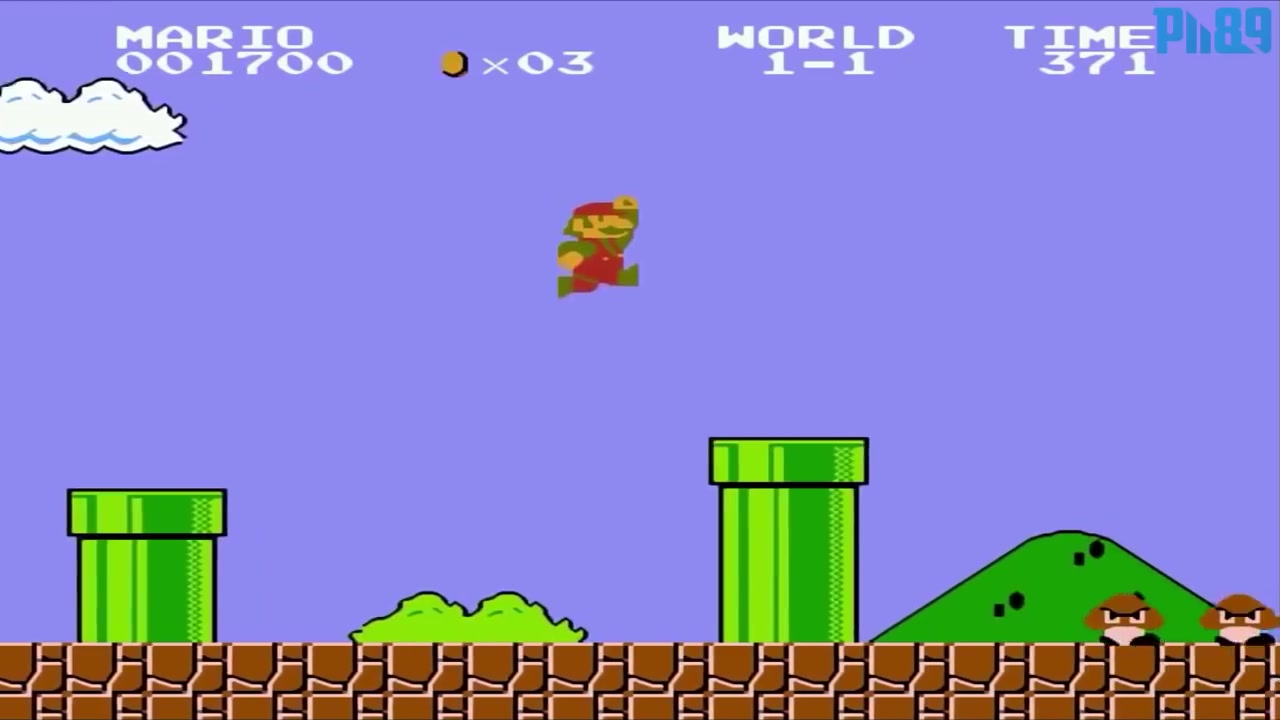mario: (548, 187, 645, 307)
